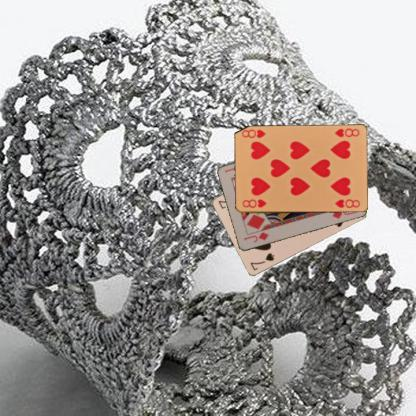7s: (247, 251, 276, 272)
8h: (332, 126, 361, 139), (240, 197, 267, 209)
Jd: (241, 229, 270, 244)
